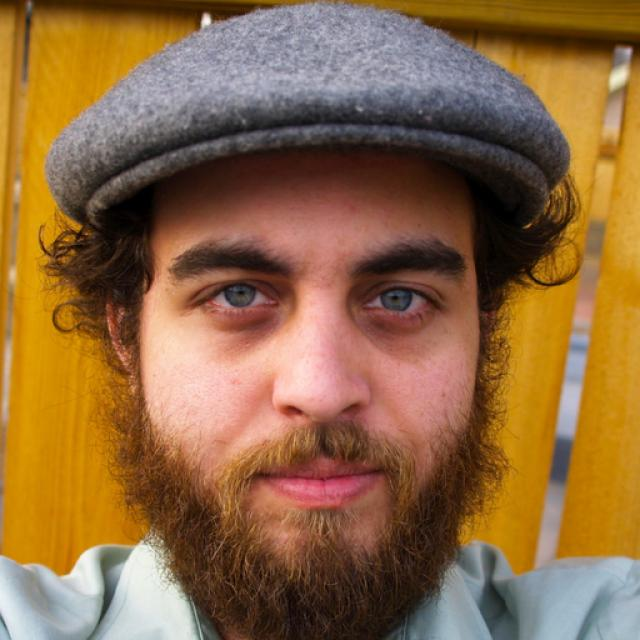Dark Circle: (197, 307, 281, 350), (360, 312, 437, 351)
